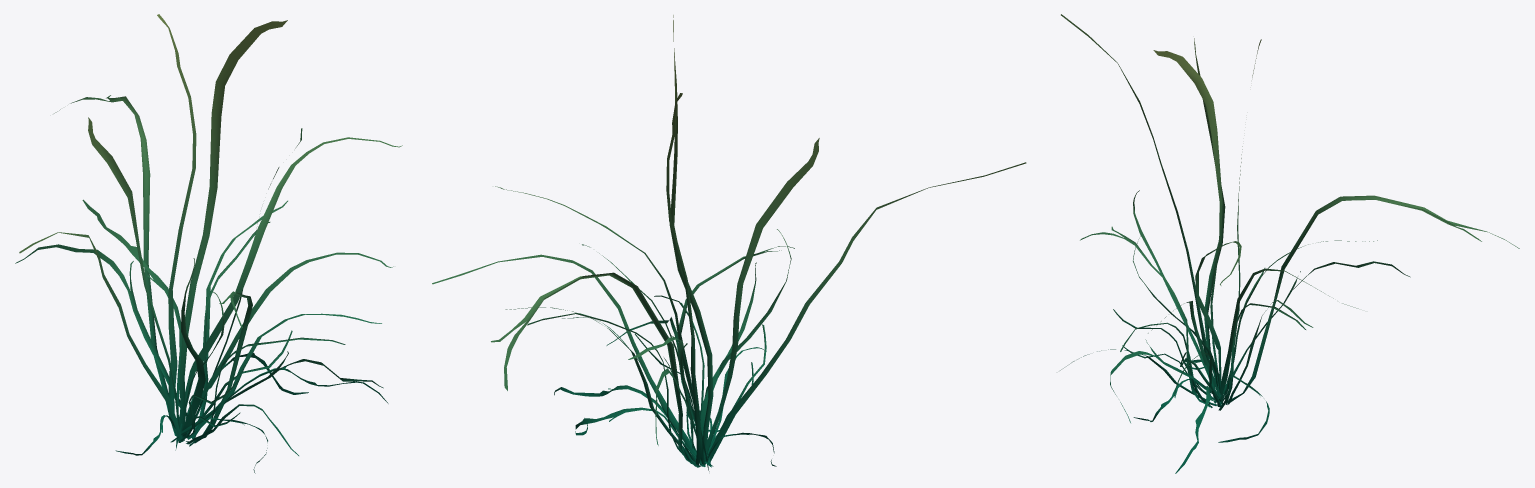
The model's file is grass_medium_02_2.glb.
The picture shows the model from 3 angles, left to right: view 1: azimuth 30°, elevation 25°; view 2: azimuth 150°, elevation 25°; view 3: azimuth 270°, elevation 25°; orthographic projection. The views are drawn at different scales.
Parts seen in each view (by area): view 1: grass_medium_02_c; view 2: grass_medium_02_c; view 3: grass_medium_02_c.
Part boxes in pixels (x1,y1,x2,y2): grass_medium_02_c: (15, 14, 402, 473); grass_medium_02_c: (432, 15, 1026, 471); grass_medium_02_c: (1060, 14, 1519, 473).
Size of the model in its own units: 0.2617 by 0.2317 by 0.2495.
